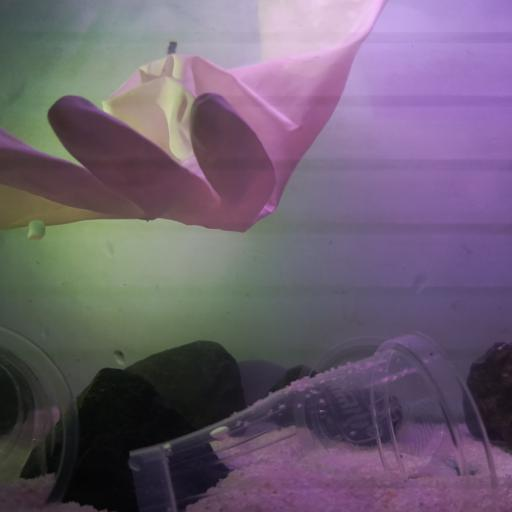glove: (0, 0, 382, 235)
plastic_cup: (127, 329, 499, 512), (0, 325, 80, 509)
